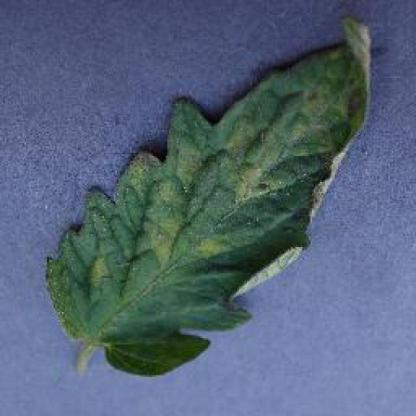Tomato_Leaf_Mold: (44, 17, 371, 340)
